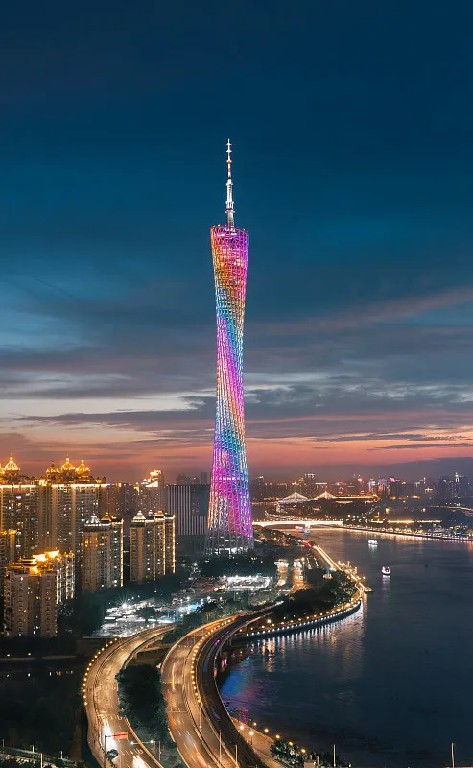Canton: (208, 136, 254, 557)
